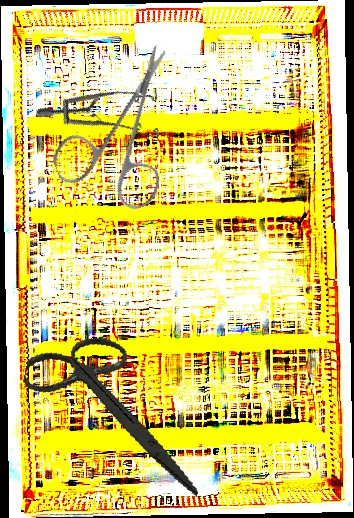Iris Scissors: (6, 323, 226, 499), (27, 43, 215, 231)
Speculum: (34, 57, 177, 182)
